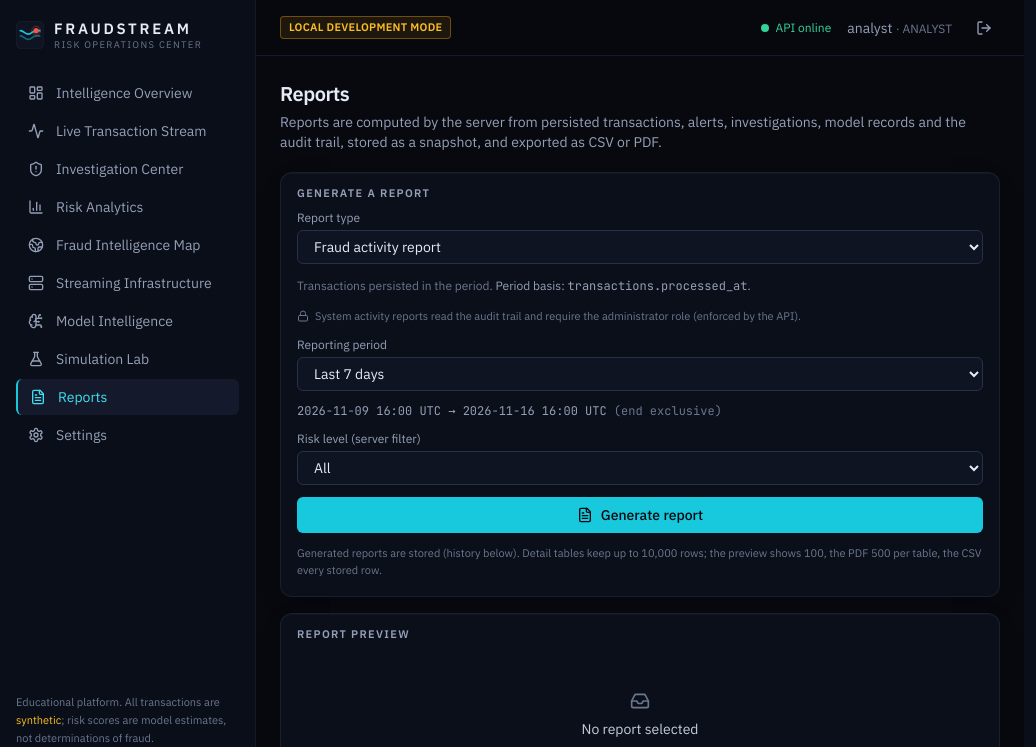
Test: Reports page › sends the period and only the applicable filters to the server, then previews the stored report
This screenshot has width=1036, height=747.
Select "Alert summary report" in the dropdown with test id "report-type". click: [640, 246]
box: [297,230,983,264]
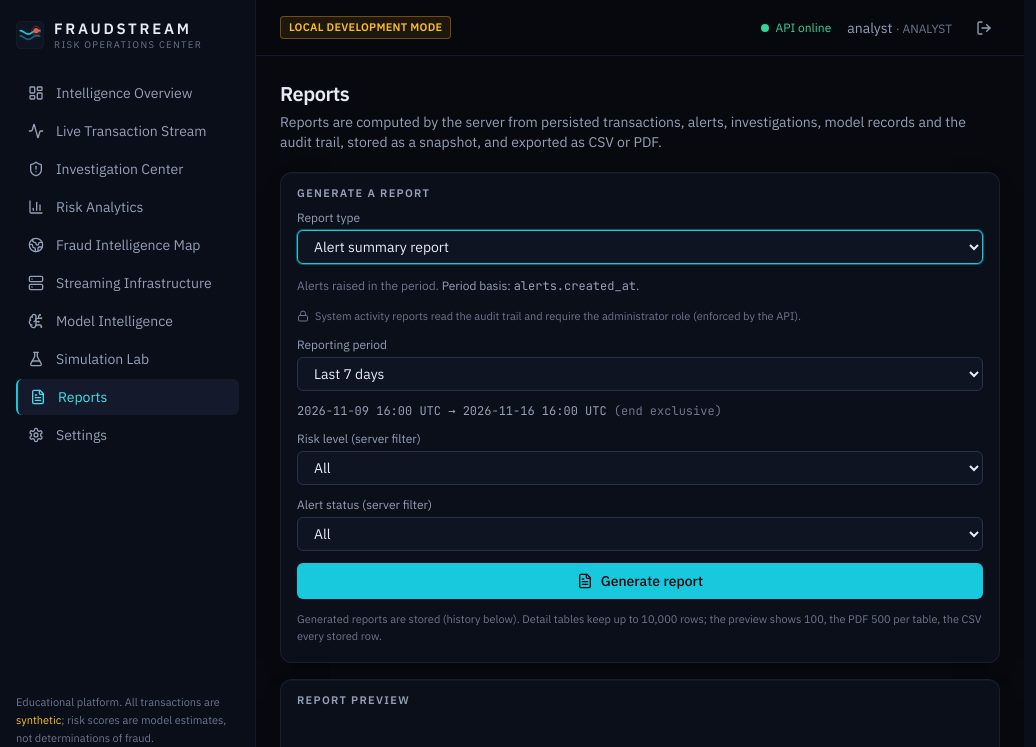
Select "Custom dates (UTC)" in the dropdown with test id "report-preset". click: [640, 374]
box: [297,356,983,390]
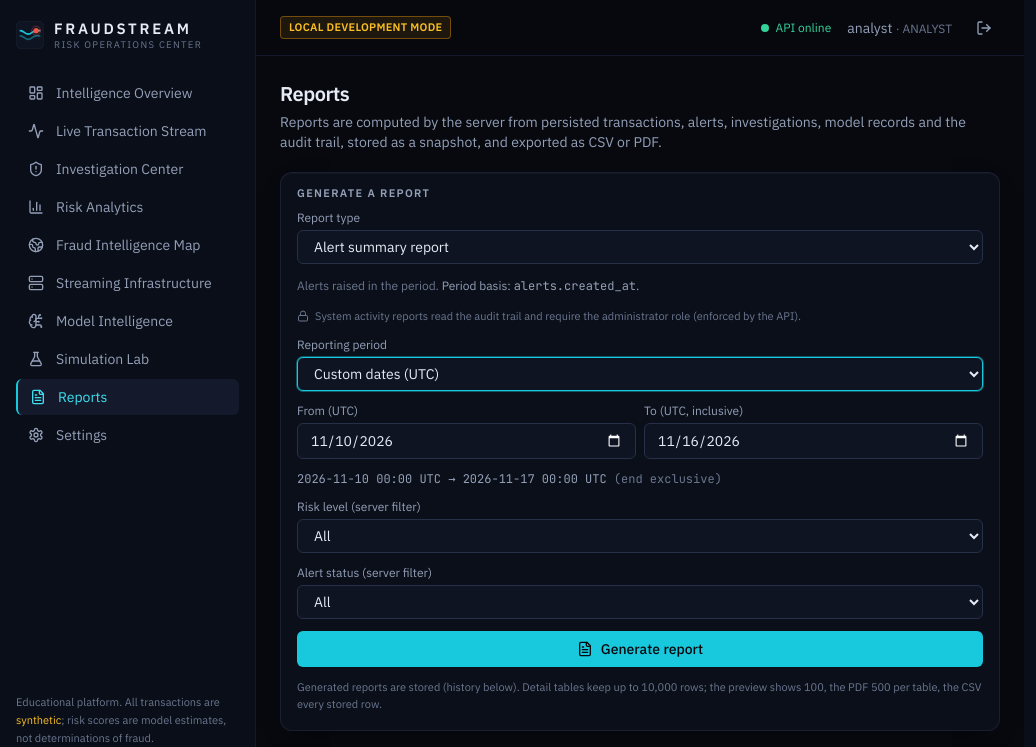
Type "2026-11-08" into the date field with test id "report-from". click: [466, 440]
box: [297,422,636,458]
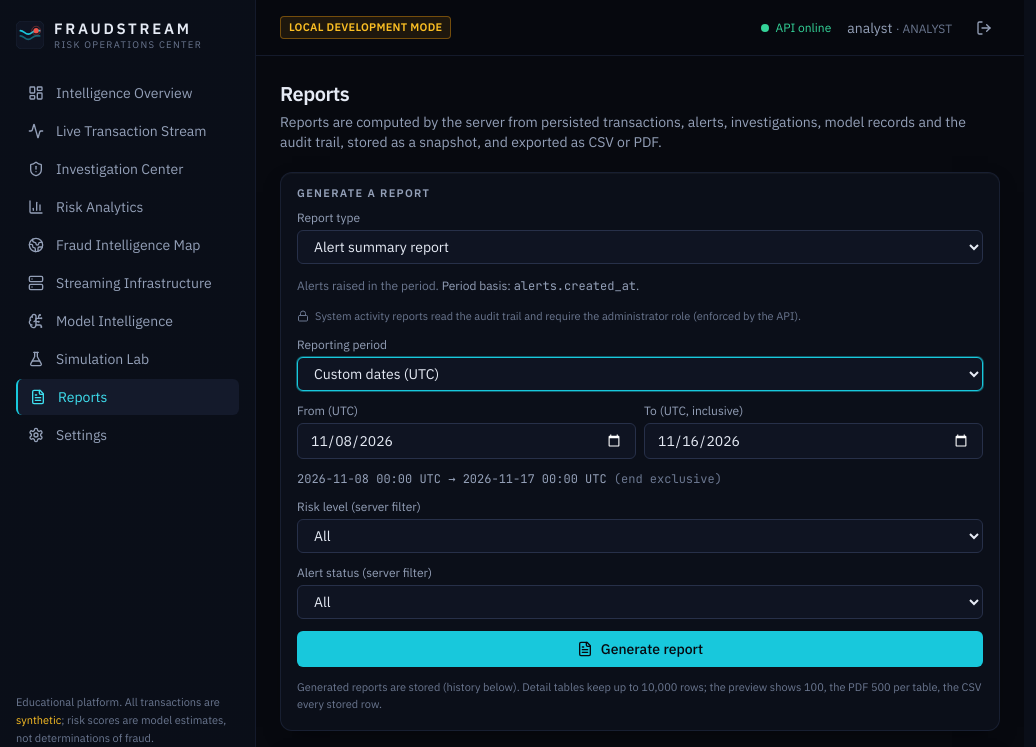
Type "2026-11-14" into the date field with test id "report-to". click: [814, 440]
box: [644,422,983,458]
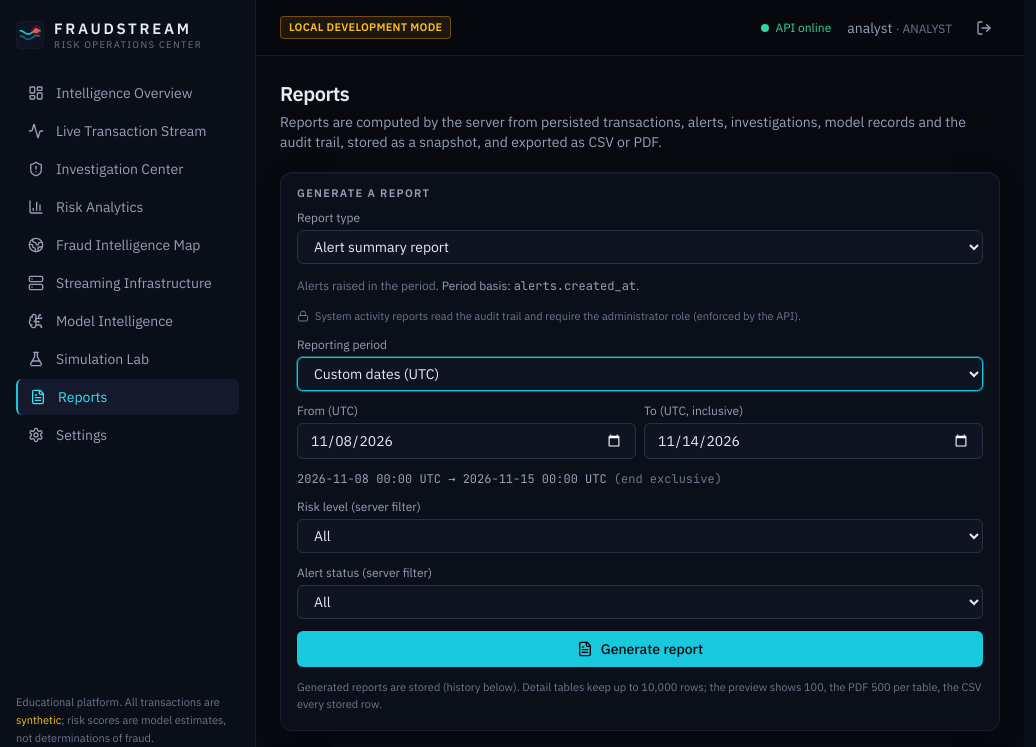
Now the element with test id "report-period-preview" shows "2026-11-08 00:00 UTC → 2026-11-15 00:00 UTC", box [297,470,722,486]
Select "HIGH" in the dropdown with test id "report-filter-risk_level". click: [640, 536]
box: [297,518,983,552]
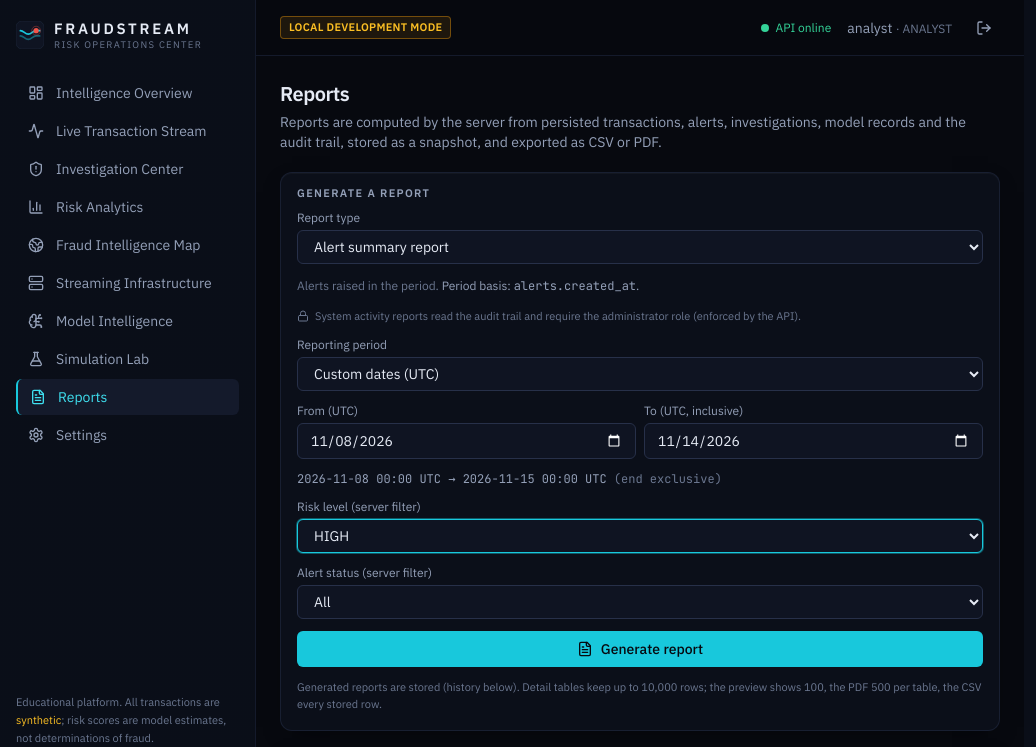
Click the button with test id "report-generate". click: [640, 648]
box: [297,630,983,666]
(page scrolled)
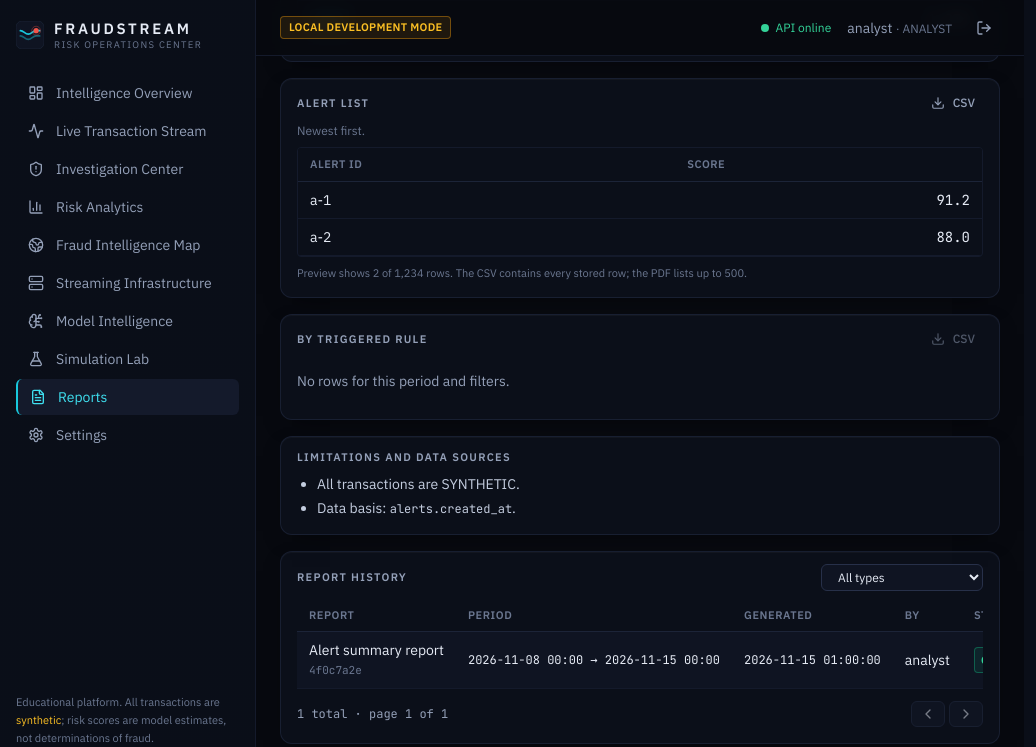
Now the text "91.2" is shown, box [675,181,982,218]
Now the text with test id "section-count-alerts" shows "Preview shows 2 of 1,234 rows", box [297,266,747,280]
Now the text with test id "section-empty-by_rule" reads "No rows for this period and filters.", box [297,372,510,390]
